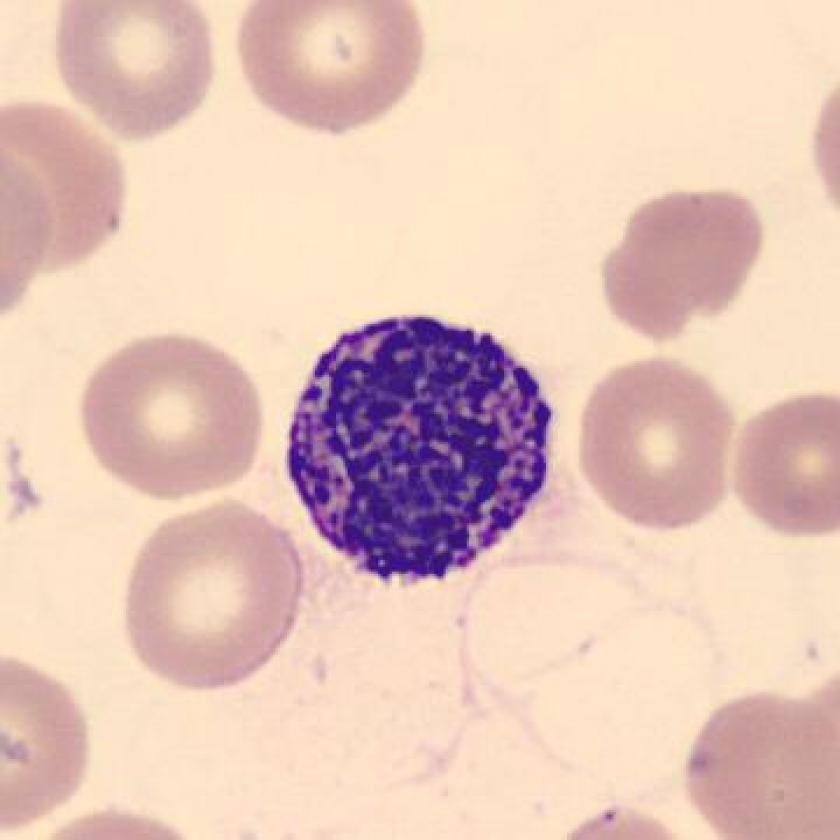basophil: (283, 297, 566, 589)
